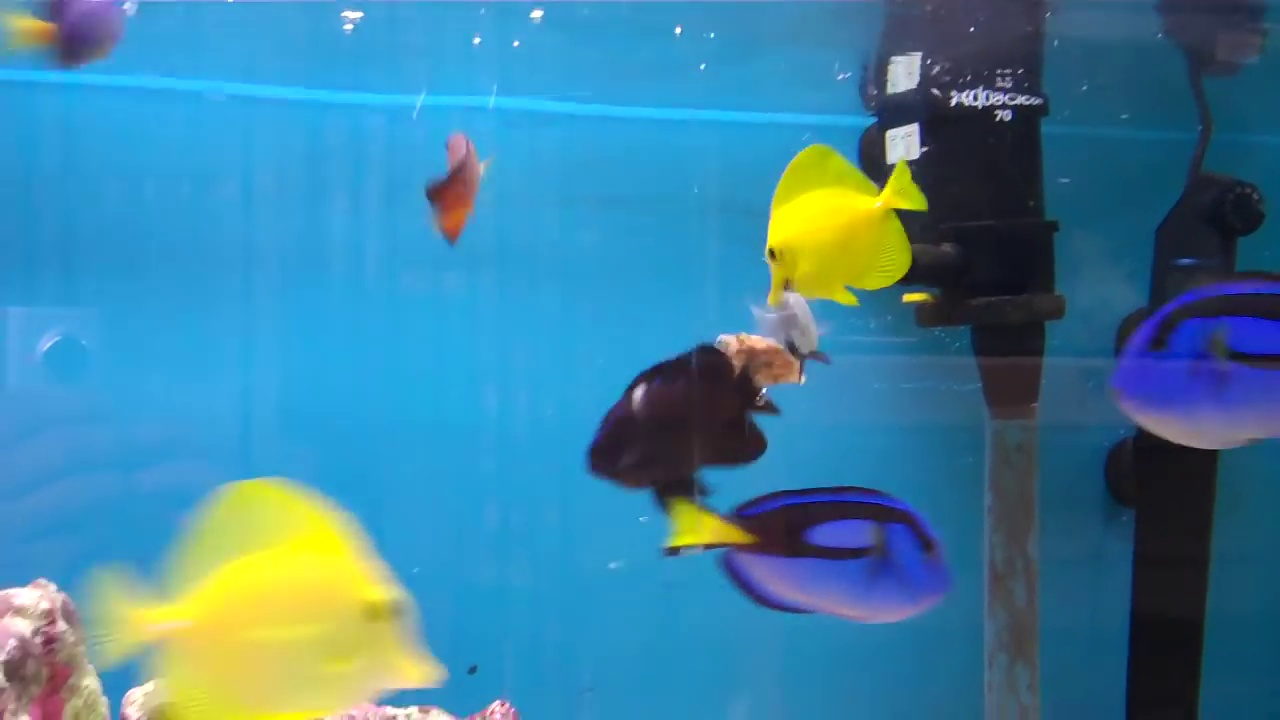blue tang surgeonfish: (664, 436, 964, 641)
saddle butterfly fish: (85, 485, 449, 720), (746, 124, 930, 310)
